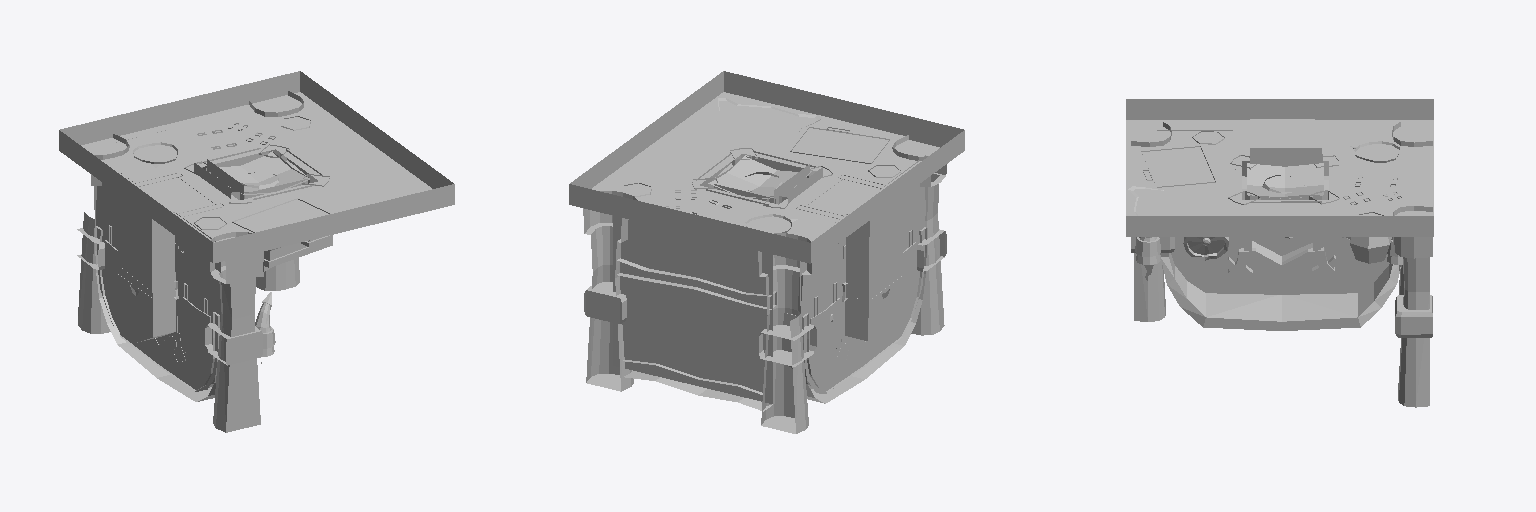
The model's file is viking_room.obj.
The picture shows the model from 3 angles: view 1: azimuth 30°, elevation 25°; view 2: azimuth 150°, elevation 25°; view 3: azimuth 270°, elevation 25°; orthographic projection.
Parts seen in each view (by area): view 1: mesh_all1_Texture1_0; view 2: mesh_all1_Texture1_0; view 3: mesh_all1_Texture1_0.
Part boxes in pixels (bbox=[...]): mesh_all1_Texture1_0: bbox=[59, 71, 454, 432]; mesh_all1_Texture1_0: bbox=[569, 71, 964, 433]; mesh_all1_Texture1_0: bbox=[1126, 99, 1433, 407].
Bounding box in the file's own units: 1.33 × 1.03 × 1.46.